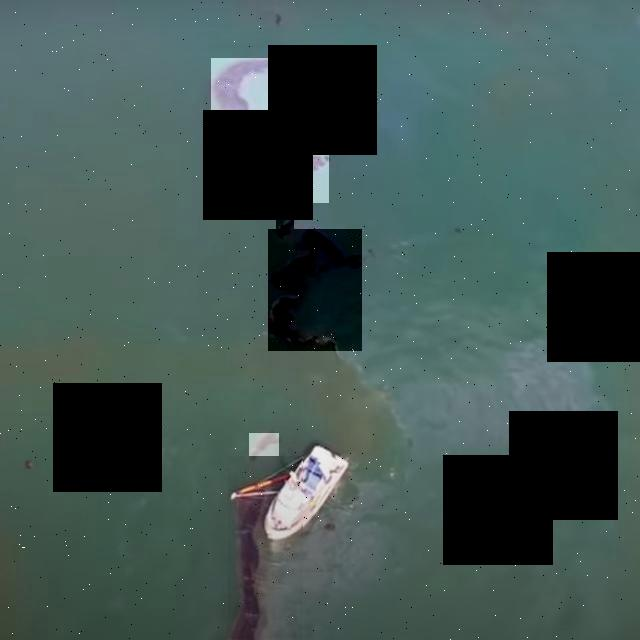oil spill: (211, 59, 329, 203), (229, 457, 303, 639), (268, 230, 362, 351), (249, 433, 279, 463), (276, 213, 294, 238)
